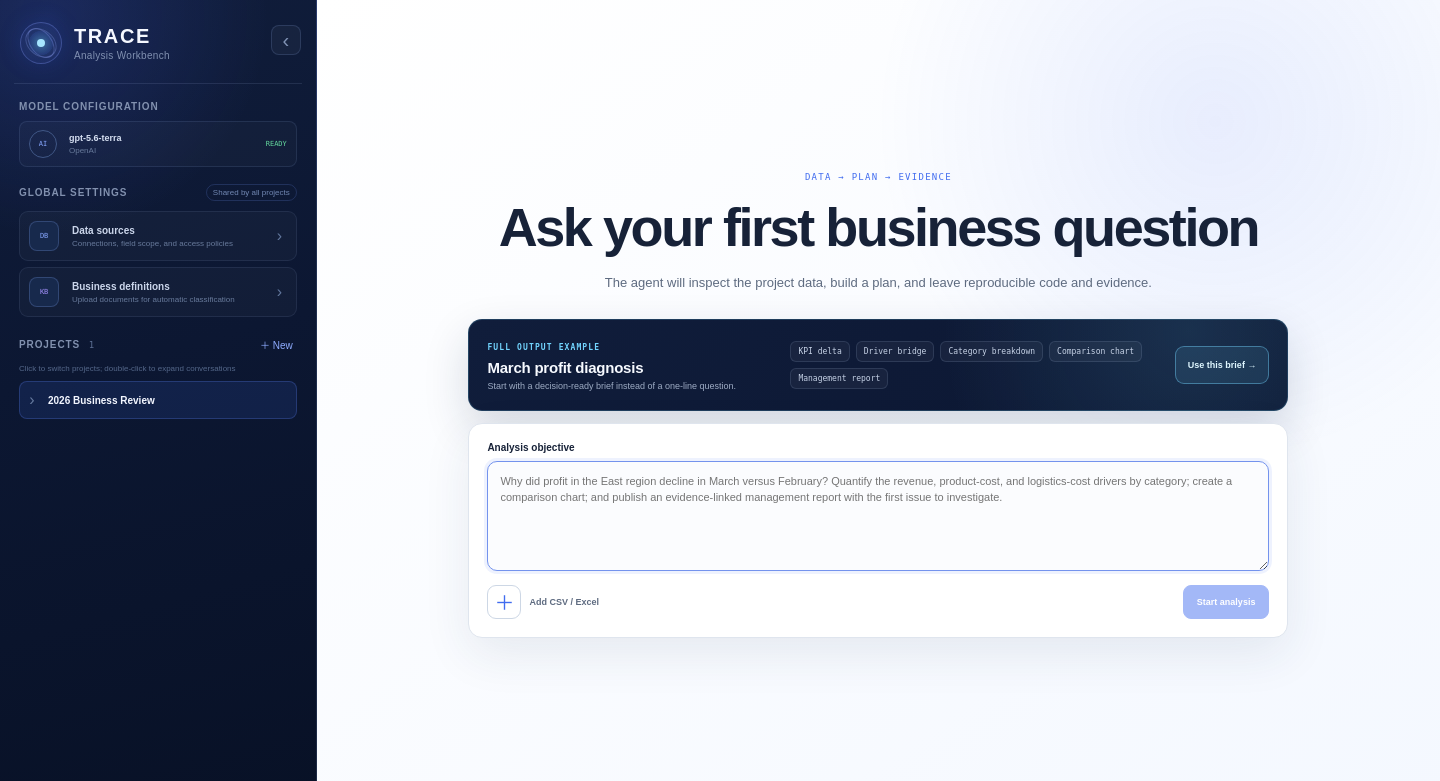
Test: analysis workbench › loads an existing policy in read-only mode and saves an edited version
The width and height of the screenshot is (1440, 781).
Click the button with aria-label "Configure global data sources". click: (158, 236)
box: [19,211,297,261]
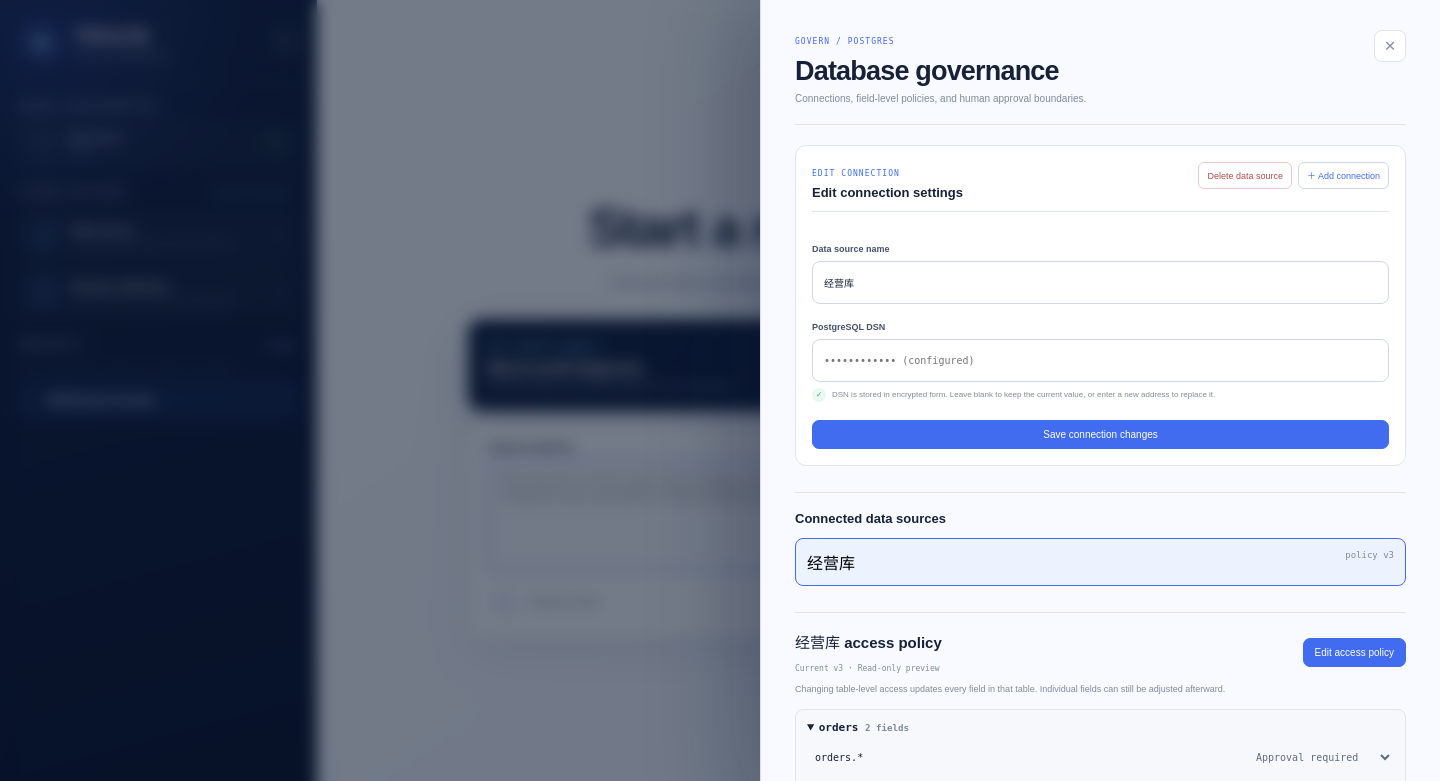
Click the button "经营库 policy v3". click: (831, 564)
box: [795,538,1406,586]
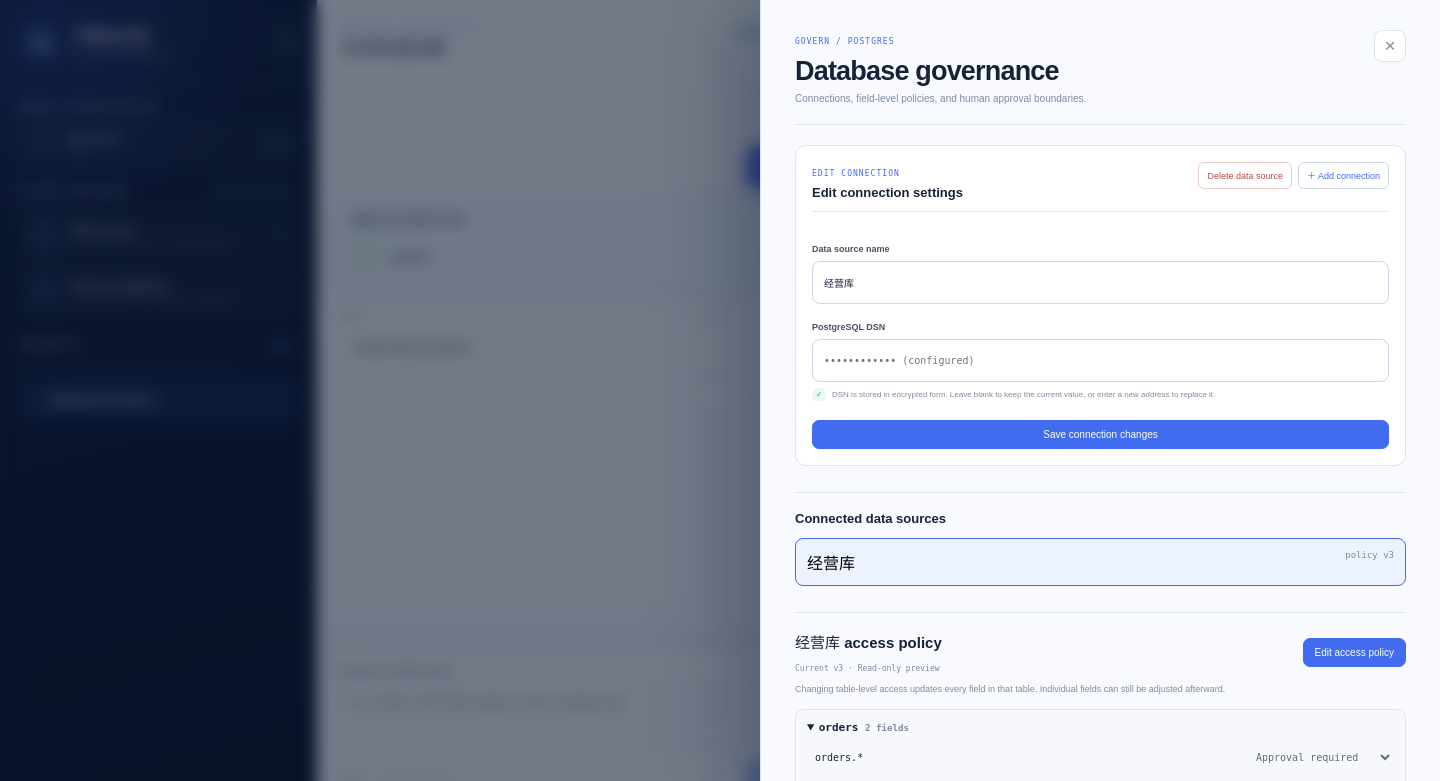
Expected: the dropdown named "orders.* access" is disabled, [1244,742,1394,772]
Click the button "Edit access policy". click: (1354, 652)
box: [1302,638,1406,666]
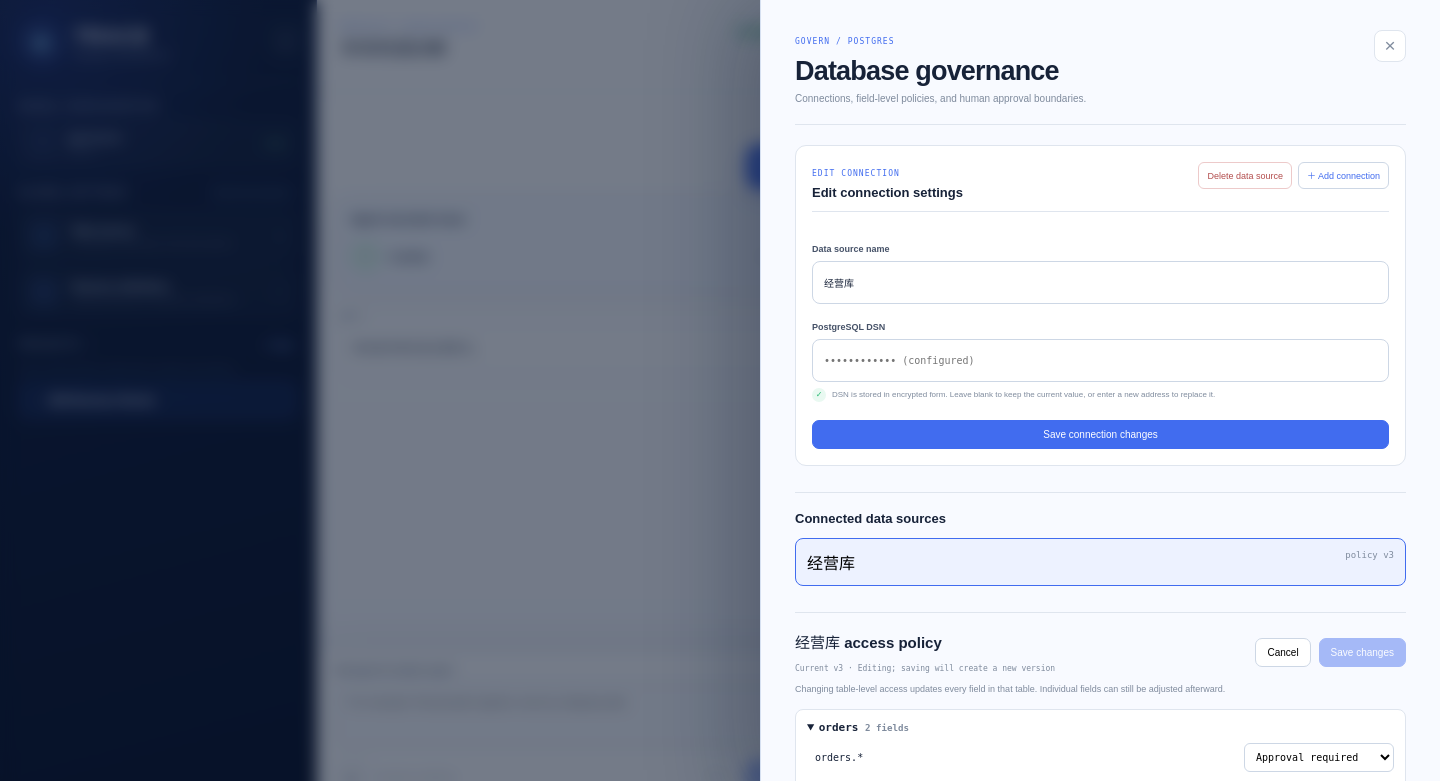
Select "Allow automatically" in the dropdown named "orders.* access". click: (1319, 757)
box: [1244,742,1394,772]
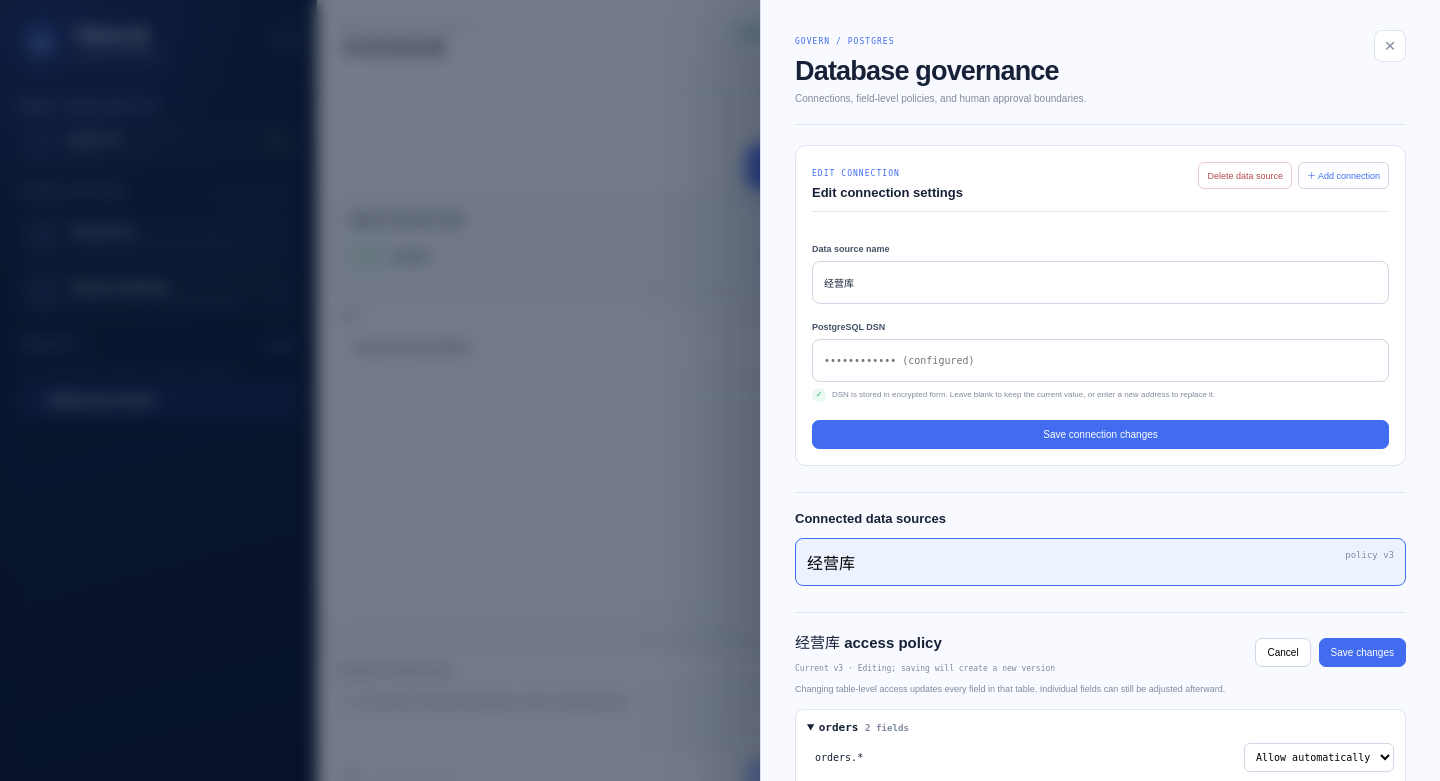
Click the button "Save changes". click: (1362, 652)
box: [1319,638,1406,666]
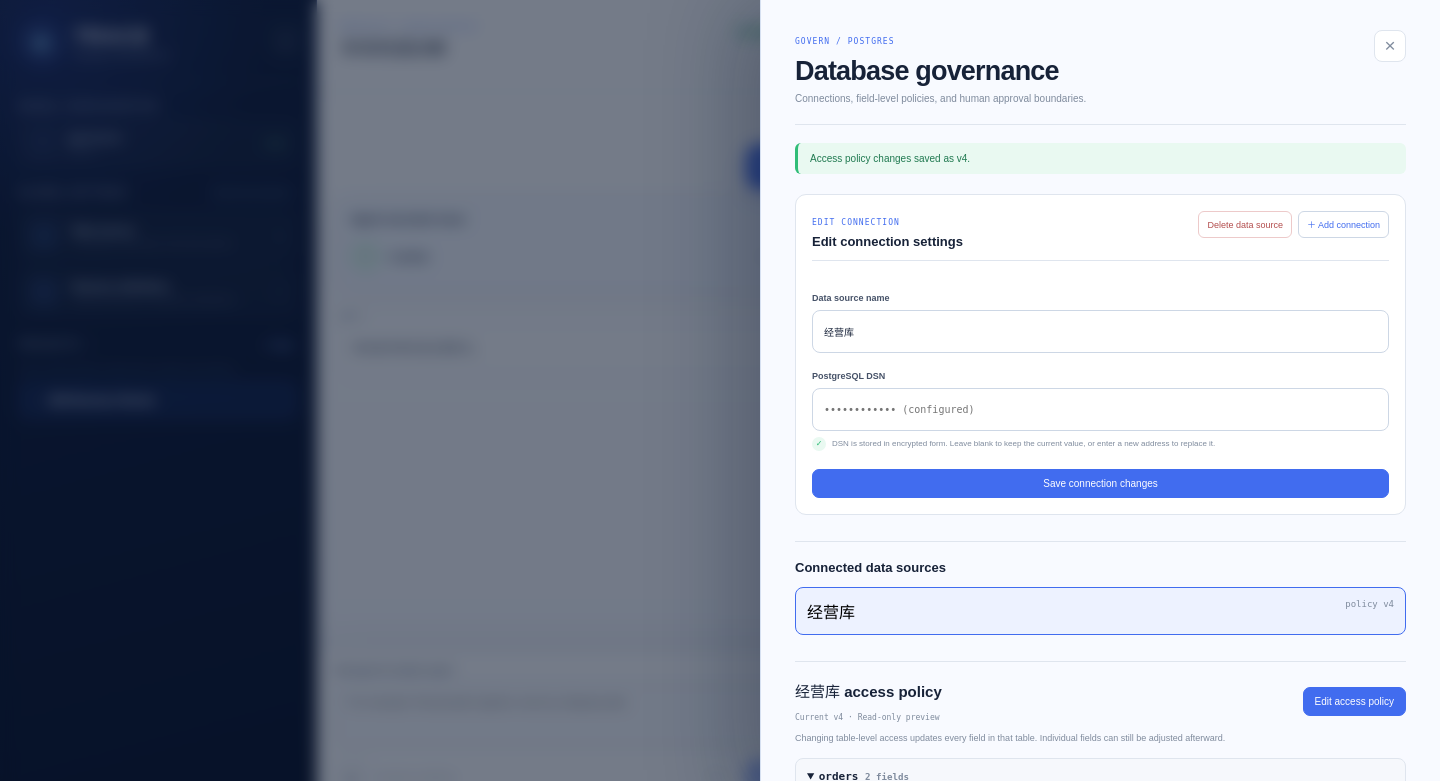
Expected: the text "Access policy changes saved as v4." is shown, [795,143,1406,174]
